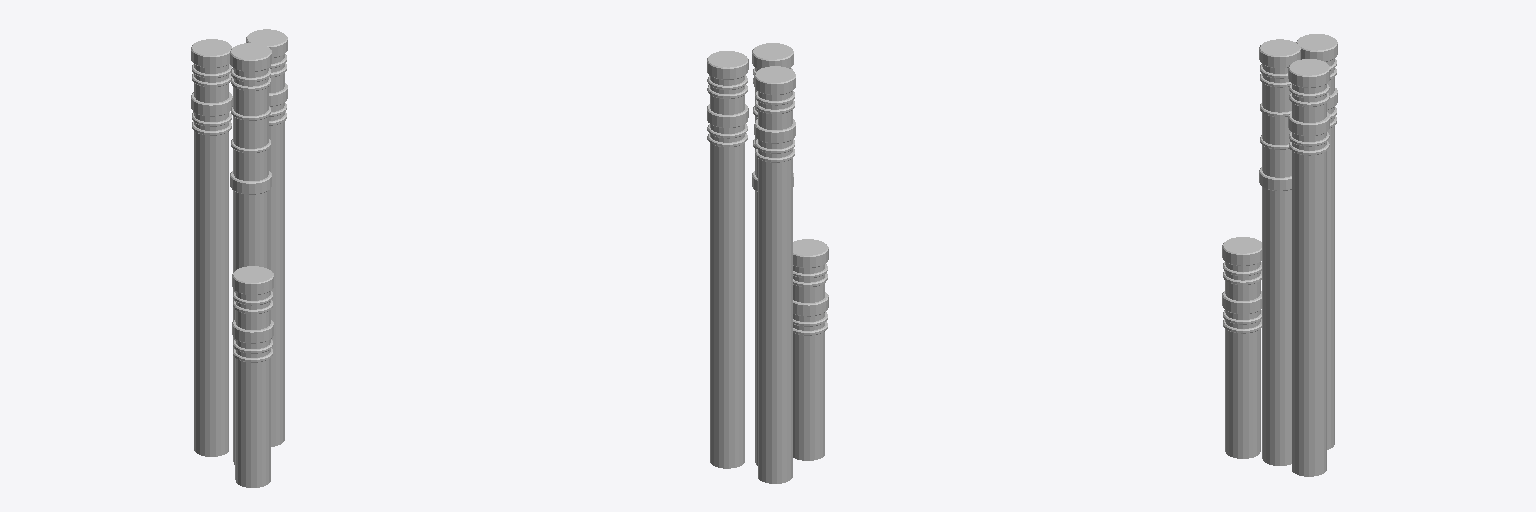
File: Tricylinder Building.obj
3 views of the same model, side by side, from view 1: azimuth 30°, elevation 25°; view 2: azimuth 150°, elevation 25°; view 3: azimuth 270°, elevation 25° (orthographic).
Parts seen in each view (by area): view 1: Front_Cylinder Back_L_Cylinder, Front_Cylinder, Front_Cylinder Forwad_Lower_Cylinder, Front_Cylinder Back_R_Cylinder, Front_Cylinder Front_Caps, Front_Cylinder Forwad_Lower_Cylinder Forward_Lower_Caps, Front_Cylinder Back_L_Cylinder Back_L_Lower_Caps, Front_Cylinder Front_Caps1, Front_Cylinder Forwad_Lower_Cylinder Forward_Lower_Bottom_Caps, Front_Cylinder Back_L_Cylinder Back_L_Caps; view 2: Front_Cylinder Back_R_Cylinder, Front_Cylinder Back_L_Cylinder, Front_Cylinder Forwad_Lower_Cylinder, Front_Cylinder, Front_Cylinder Back_R_Cylinder Back_R_Caps, Front_Cylinder Back_L_Cylinder Back_L_Caps, Front_Cylinder Back_L_Cylinder Back_L_Lower_Caps, Front_Cylinder Back_R_Cylinder Back_R_Lower_Caps, Front_Cylinder Forwad_Lower_Cylinder Forward_Lower_Caps, Front_Cylinder Forwad_Lower_Cylinder Forward_Lower_Bottom_Caps, Front_Cylinder Front_Caps; view 3: Front_Cylinder Back_R_Cylinder, Front_Cylinder, Front_Cylinder Forwad_Lower_Cylinder, Front_Cylinder Back_L_Cylinder, Front_Cylinder Back_R_Cylinder Back_R_Caps, Front_Cylinder Back_R_Cylinder Back_R_Lower_Caps, Front_Cylinder Forwad_Lower_Cylinder Forward_Lower_Caps, Front_Cylinder Forwad_Lower_Cylinder Forward_Lower_Bottom_Caps, Front_Cylinder Front_Caps, Front_Cylinder Front_Caps1, Front_Cylinder Back_L_Cylinder Back_L_Caps.
Part boxes in pixels (x1,y1,x2,y2): Front_Cylinder Back_L_Cylinder: (194,40,228,456); Front_Cylinder: (233,44,268,464); Front_Cylinder Forwad_Lower_Cylinder: (235,267,270,487); Front_Cylinder Back_R_Cylinder: (249,30,284,446); Front_Cylinder Front_Caps: (230,43,271,90); Front_Cylinder Forwad_Lower_Cylinder Forward_Lower_Caps: (232,266,273,313); Front_Cylinder Back_L_Cylinder Back_L_Lower_Caps: (191,92,232,135); Front_Cylinder Front_Caps1: (230,106,271,194); Front_Cylinder Forwad_Lower_Cylinder Forward_Lower_Bottom_Caps: (232,320,273,362); Front_Cylinder Back_L_Cylinder Back_L_Caps: (191,39,231,86); Front_Cylinder Back_R_Cylinder: (710,52,744,468); Front_Cylinder Back_L_Cylinder: (758,67,792,483); Front_Cylinder Forwad_Lower_Cylinder: (793,240,824,460); Front_Cylinder: (755,44,790,465); Front_Cylinder Back_R_Cylinder Back_R_Caps: (707,51,748,98); Front_Cylinder Back_L_Cylinder Back_L_Caps: (754,66,795,113); Front_Cylinder Back_L_Cylinder Back_L_Lower_Caps: (754,119,795,162); Front_Cylinder Back_R_Cylinder Back_R_Lower_Caps: (707,104,748,146); Front_Cylinder Forwad_Lower_Cylinder Forward_Lower_Caps: (793,239,828,286); Front_Cylinder Forwad_Lower_Cylinder Forward_Lower_Bottom_Caps: (793,292,828,335); Front_Cylinder Front_Caps: (752,43,793,83); Front_Cylinder Back_R_Cylinder: (1292,60,1326,476); Front_Cylinder: (1262,40,1297,465); Front_Cylinder Forwad_Lower_Cylinder: (1225,238,1260,458); Front_Cylinder Back_L_Cylinder: (1299,35,1334,449); Front_Cylinder Back_R_Cylinder Back_R_Caps: (1288,59,1329,106); Front_Cylinder Back_R_Cylinder Back_R_Lower_Caps: (1288,112,1329,155); Front_Cylinder Forwad_Lower_Cylinder Forward_Lower_Caps: (1222,237,1261,284); Front_Cylinder Forwad_Lower_Cylinder Forward_Lower_Bottom_Caps: (1222,291,1261,333); Front_Cylinder Front_Caps: (1259,39,1300,87); Front_Cylinder Front_Caps1: (1259,103,1291,190); Front_Cylinder Back_L_Cylinder Back_L_Caps: (1296,34,1337,79).
Bounding box in the file's own units: 7.18 × 32.2 × 8.21.